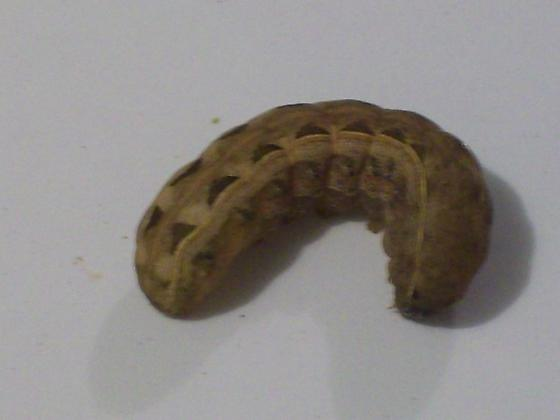Armyworm: (128, 96, 492, 346)
